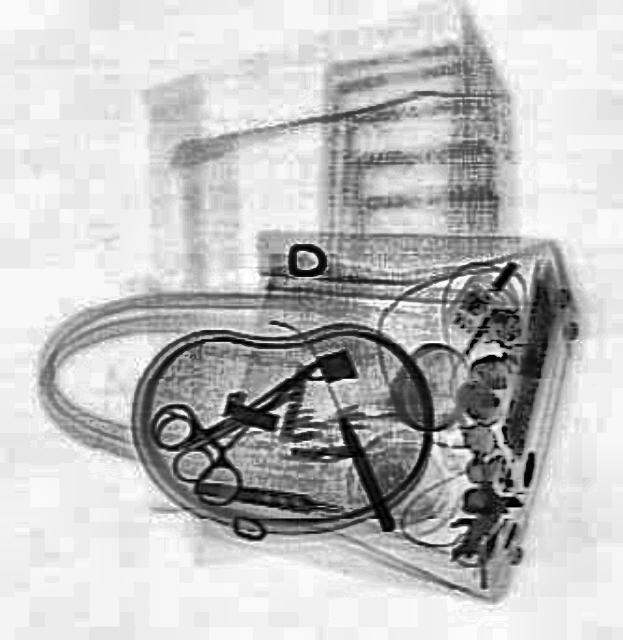Scissors: (138, 322, 360, 514), (144, 353, 306, 485)
